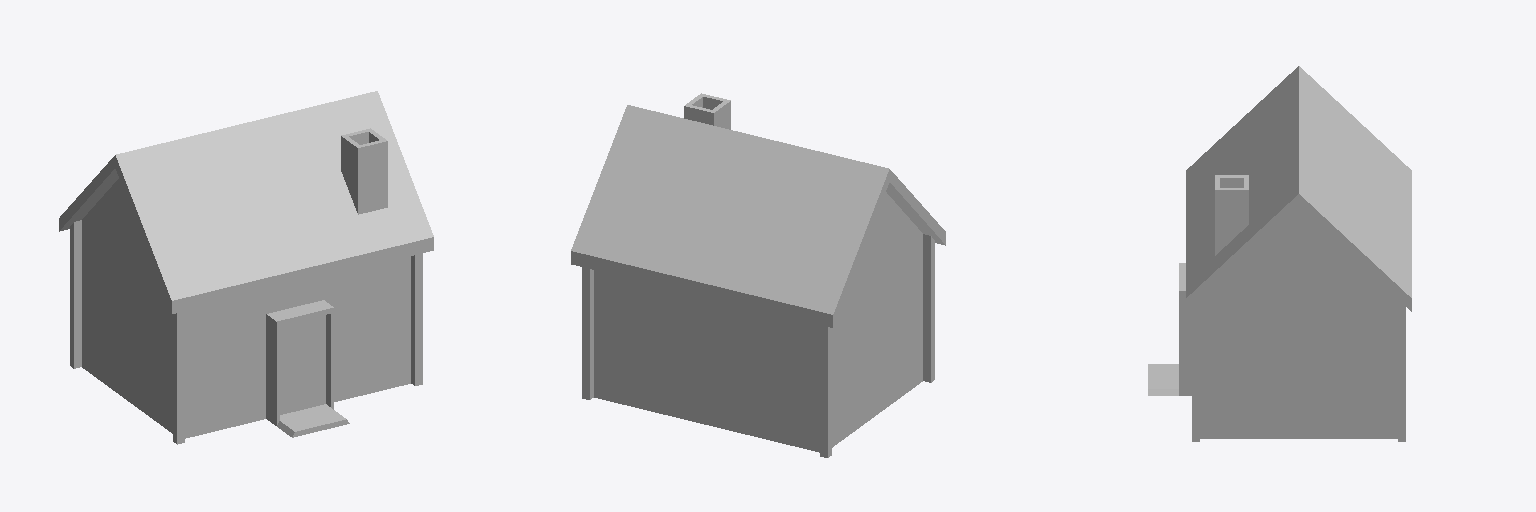
Rendered from house.obj.
3 views of the same model, side by side, from view 1: azimuth 30°, elevation 25°; view 2: azimuth 150°, elevation 25°; view 3: azimuth 270°, elevation 25° (orthographic).
Visible parts, largest first — view 1: Cube.001_Cube.002; view 2: Cube.001_Cube.002; view 3: Cube.001_Cube.002.
Boxes of the visible parts, box(x1,y1,x2,y2) form: Cube.001_Cube.002: box(59, 91, 433, 444); Cube.001_Cube.002: box(571, 93, 945, 457); Cube.001_Cube.002: box(1148, 66, 1411, 441).
Bounding box in the file's own units: 2.54 × 2.34 × 2.22.